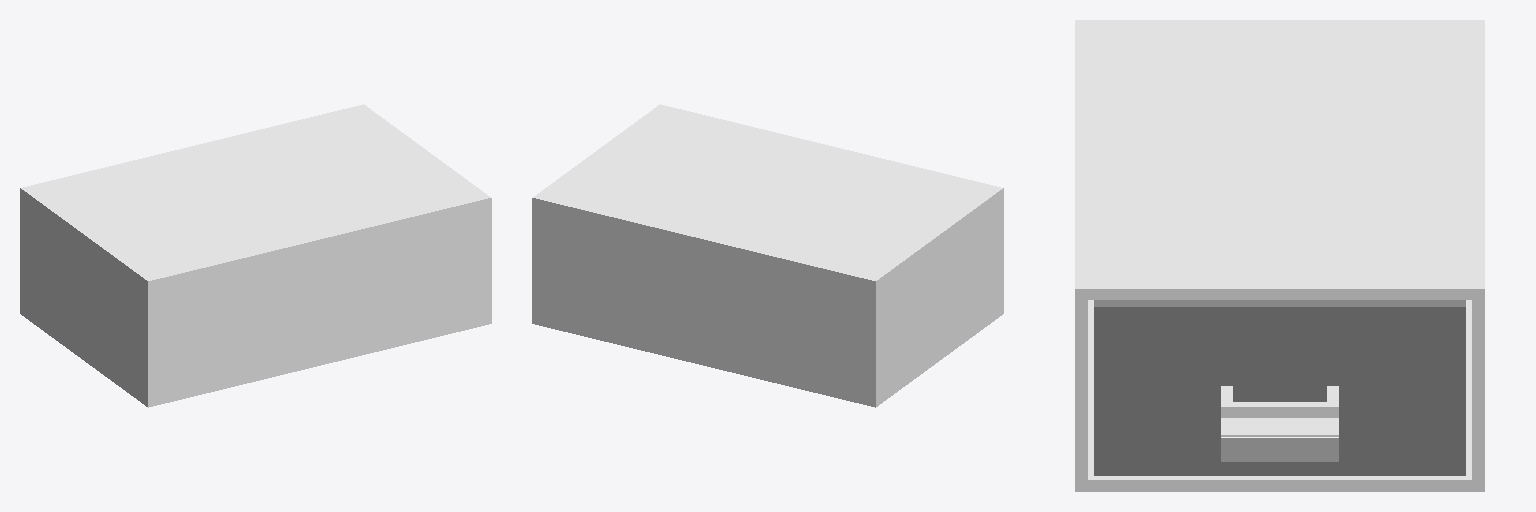
robot.urdf — drawer:
<?xml version="1.0" ?>
<!-- =================================================================================== -->
<!-- |    This document was autogenerated by xacro from drawer_one_sided_handle.xacro  | -->
<!-- |    EDITING THIS FILE BY HAND IS NOT RECOMMENDED                                 | -->
<!-- =================================================================================== -->
<robot name="drawer" xmlns:xacro="http://ros.org/wiki/xacro">
  <material name="omni/Blue">
    <color rgba="0 0 0.8 1"/>
  </material>
  <material name="omni/Red">
    <color rgba="1 0 0 1"/>
  </material>
  <material name="omni/White">
    <color rgba="1 1 1 1"/>
  </material>
  <material name="omni/Green">
    <color rgba="0 1 0 1"/>
  </material>
  <material name="omni/Yellow">
    <color rgba="1 1 0 1"/>
  </material>
  <material name="omni/LightGrey">
    <color rgba="0.6 0.6 0.6 1"/>
  </material>
  <material name="omni/DarkGrey">
    <color rgba="0.4 0.4 0.4 1"/>
  </material>
  <link name="base_link">
    </link>
  <link name="drawer">
    <visual>
      <origin rpy="0 0 0" xyz="0 0 0"/>
      <geometry>
        <box size="1.0 0.6 0.3"/>
      </geometry>
      <material name="omni/LightGrey"/>
    </visual>
    <collision>
      <origin rpy="0 0 0" xyz="0 0 0"/>
      <geometry>
        <box size="1.0 0.6 0.3"/>
      </geometry>
      <contact_coefficients mu="0.0"/>
    </collision>
    <inertial>
      <!-- CENTER OF MASS -->
      <origin rpy="0 0 0" xyz="0 0 0"/>
      <mass value="0.1"/>
      <!-- box inertia: 1/12*m(y^2+z^2), ... -->
      <inertia ixx="0.0225" ixy="0" ixz="0" iyy="0.0545" iyz="0" izz="0.068"/>
    </inertial>
  </link>
  <joint name="base_drawer_joint" type="prismatic">
    <origin rpy="0 0 0" xyz="0 0 0"/>
    <parent link="base_link"/>
    <child link="drawer"/>
    <dynamics damping="1.0" friction="1.0"/>
    <limit effort="0.1" lower="0.0" upper="0.5" velocity="10.0"/>
    <axis xyz="1 0 0"/>
  </joint>
  <link name="left_wall">
    <visual>
      <origin rpy="0 0 0" xyz="0 0 0"/>
      <geometry>
        <box size="1.01 0.02 0.32"/>
      </geometry>
      <material name="omni/White"/>
    </visual>
    <collision>
      <origin rpy="0 0 0" xyz="0 0 0.0"/>
      <geometry>
        <box size="1.01 0.02 0.32"/>
      </geometry>
    </collision>
    <inertial>
      <!-- CENTER OF MASS -->
      <origin rpy="0 0 0" xyz="0 0 0"/>
      <mass value="0.05"/>
      <!-- box inertia: 1/12*m(y^2+z^2), ... -->
      <inertia ixx="0.00257" ixy="0" ixz="0" iyy="0.0280625" iyz="0" izz="0.0255125"/>
    </inertial>
  </link>
  <joint name="b_2_lw" type="fixed">
    <origin rpy="0 0 0" xyz="-0.01 -0.32 0"/>
    <parent link="base_link"/>
    <child link="left_wall"/>
  </joint>
  <link name="right_wall">
    <visual>
      <origin rpy="0 0 0" xyz="0 0 0"/>
      <geometry>
        <box size="1.01 0.02 0.32"/>
      </geometry>
      <material name="omni/White"/>
    </visual>
    <collision>
      <origin rpy="0 0 0" xyz="0 0 0.0"/>
      <geometry>
        <box size="1.01 0.02 0.32"/>
      </geometry>
    </collision>
    <inertial>
      <!-- CENTER OF MASS -->
      <origin rpy="0 0 0" xyz="0 0 0"/>
      <mass value="0.05"/>
      <!-- box inertia: 1/12*m(y^2+z^2), ... -->
      <inertia ixx="0.00257" ixy="0" ixz="0" iyy="0.0280625" iyz="0" izz="0.0255125"/>
    </inertial>
  </link>
  <joint name="b_2_rw" type="fixed">
    <origin rpy="0 0 0" xyz="-0.01 0.32 0"/>
    <parent link="base_link"/>
    <child link="right_wall"/>
  </joint>
  <link name="bottom_wall">
    <visual>
      <origin rpy="0 0 0" xyz="0 0 0"/>
      <geometry>
        <box size="1.01 0.66 0.02"/>
      </geometry>
      <material name="omni/White"/>
    </visual>
    <collision>
      <origin rpy="0 0 0" xyz="0 0 0.0"/>
      <geometry>
        <box size="1.01 0.66 0.02"/>
      </geometry>
    </collision>
    <inertial>
      <!-- CENTER OF MASS -->
      <origin rpy="0 0 0" xyz="0 0 0"/>
      <mass value="0.05"/>
      <!-- box inertia: 1/12*m(y^2+z^2), ... -->
      <inertia ixx="0.0109" ixy="0" ixz="0" iyy="0.0255125" iyz="0" izz="0.0363925"/>
    </inertial>
  </link>
  <joint name="b_2_bw" type="fixed">
    <origin rpy="0 0 0" xyz="-0.01 0 -0.17"/>
    <parent link="base_link"/>
    <child link="bottom_wall"/>
  </joint>
  <link name="top_wall">
    <visual>
      <origin rpy="0 0 0" xyz="0 0 0"/>
      <geometry>
        <box size="1.01 0.66 0.02"/>
      </geometry>
      <material name="omni/White"/>
    </visual>
    <collision>
      <origin rpy="0 0 0" xyz="0 0 0.0"/>
      <geometry>
        <box size="1.01 0.66 0.02"/>
      </geometry>
    </collision>
    <inertial>
      <!-- CENTER OF MASS -->
      <origin rpy="0 0 0" xyz="0 0 0"/>
      <mass value="0.05"/>
      <!-- box inertia: 1/12*m(y^2+z^2), ... -->
      <inertia ixx="0.0109" ixy="0" ixz="0" iyy="0.0255125" iyz="0" izz="0.0363925"/>
    </inertial>
  </link>
  <joint name="b_2_tw" type="fixed">
    <origin rpy="0 0 0" xyz="-0.01 0 0.17"/>
    <parent link="base_link"/>
    <child link="top_wall"/>
  </joint>
  <link name="back_wall">
    <visual>
      <origin rpy="0 0 0" xyz="0 0 0"/>
      <geometry>
        <box size="0.02 0.66 0.36"/>
      </geometry>
      <material name="omni/White"/>
    </visual>
    <collision>
      <origin rpy="0 0 0" xyz="0 0 0.0"/>
      <geometry>
        <box size="0.02 0.66 0.36"/>
      </geometry>
    </collision>
    <inertial>
      <!-- CENTER OF MASS -->
      <origin rpy="0 0 0" xyz="0 0 0"/>
      <mass value="0.05"/>
      <!-- box inertia: 1/12*m(y^2+z^2), ... -->
      <inertia ixx="0.01413" ixy="0" ixz="0" iyy="0.00325" iyz="0" izz="0.02178"/>
    </inertial>
  </link>
  <joint name="b_2_backw" type="fixed">
    <origin rpy="0 0 0" xyz="-0.52 0 0"/>
    <parent link="base_link"/>
    <child link="back_wall"/>
  </joint>
  <link name="handle_left">
    <visual>
      <origin rpy="0 0 0" xyz="0 0 0"/>
      <geometry>
        <box size="0.06 0.02 0.02"/>
      </geometry>
      <material name="omni/White"/>
    </visual>
    <collision>
      <origin rpy="0 0 0" xyz="0 0 0.0"/>
      <geometry>
        <box size="0.06 0.02 0.02"/>
      </geometry>
    </collision>
    <inertial>
      <!-- CENTER OF MASS -->
      <origin rpy="0 0 0" xyz="0 0 0"/>
      <mass value="0.05"/>
      <!-- box inertia: 1/12*m(y^2+z^2), ... -->
      <inertia ixx="2e-05" ixy="0" ixz="0" iyy="0.0001" iyz="0" izz="0.0001"/>
    </inertial>
  </link>
  <joint name="d_2_hl" type="fixed">
    <origin rpy="0 0 0" xyz="0.53 -0.085 0"/>
    <parent link="drawer"/>
    <child link="handle_left"/>
  </joint>
  <link name="handle_right">
    <visual>
      <origin rpy="0 0 0" xyz="0 0 0"/>
      <geometry>
        <box size="0.06 0.02 0.02"/>
      </geometry>
      <material name="omni/White"/>
    </visual>
    <collision>
      <origin rpy="0 0 0" xyz="0 0 0.0"/>
      <geometry>
        <box size="0.06 0.02 0.02"/>
      </geometry>
    </collision>
    <inertial>
      <!-- CENTER OF MASS -->
      <origin rpy="0 0 0" xyz="0 0 0"/>
      <mass value="0.05"/>
      <!-- box inertia: 1/12*m(y^2+z^2), ... -->
      <inertia ixx="2e-05" ixy="0" ixz="0" iyy="0.0001" iyz="0" izz="0.0001"/>
    </inertial>
  </link>
  <joint name="d_2_hr" type="fixed">
    <origin rpy="0 0 0" xyz="0.53 0.085 0"/>
    <parent link="drawer"/>
    <child link="handle_right"/>
  </joint>
  <link name="handle_grip">
    <visual>
      <origin rpy="0 0 0" xyz="0 0 0"/>
      <geometry>
        <box size="0.02 0.19 0.02"/>
      </geometry>
      <material name="omni/White"/>
    </visual>
    <collision>
      <origin rpy="0 0 0" xyz="0 0 0.0"/>
      <geometry>
        <box size="0.02 0.19 0.02"/>
      </geometry>
    </collision>
    <inertial>
      <!-- CENTER OF MASS -->
      <origin rpy="0 0 0" xyz="0 0 0"/>
      <mass value="0.05"/>
      <!-- box inertia: 1/12*m(y^2+z^2), ... -->
      <inertia ixx="0.0009125" ixy="0" ixz="0" iyy="2e-05" iyz="0" izz="0.0009125"/>
    </inertial>
  </link>
  <joint name="d_2_hg" type="fixed">
    <origin rpy="0 0 0" xyz="0.57 0 0"/>
    <parent link="drawer"/>
    <child link="handle_grip"/>
  </joint>
  <link name="handle_top_cover">
    <visual>
      <origin rpy="0 0 0" xyz="0 0 0"/>
      <geometry>
        <!-- <box size="${handle_gap + handle_thickness} ${handle_span + 2 * handle_thickness} ${handle_thickness * 20}"/> -->
        <box size="0.08 0.19 0.006"/>
      </geometry>
      <material name="omni/White"/>
    </visual>
    <collision>
      <origin rpy="0 0 0" xyz="0 0 0.0"/>
      <geometry>
        <box size="0.08 0.19 0.006"/>
      </geometry>
      <contact_coefficients mu="0.0"/>
    </collision>
    <inertial>
      <origin rpy="0 0 0" xyz="0 0 0"/>
      <mass value="0.05"/>
      <inertia ixx="0.0009125" ixy="0" ixz="0" iyy="0.0001" iyz="0" izz="0.0009925"/>
    </inertial>
  </link>
  <joint name="d_2_htc" type="fixed">
    <origin rpy="0 0 0" xyz="0.54 0 -0.043"/>
    <parent link="drawer"/>
    <child link="handle_top_cover"/>
  </joint>
  <link name="handle_bottom_cover">
    <visual>
      <origin rpy="0 0 0" xyz="0 0 0"/>
      <geometry>
        <!-- <box size="${handle_gap + handle_thickness} ${handle_span + 2 * handle_thickness} ${handle_thickness * 20}"/> -->
        <box size="0.006 0.19 0.113136"/>
      </geometry>
      <material name="omni/White"/>
    </visual>
    <collision>
      <origin rpy="0 0 0" xyz="0 0 0.0"/>
      <geometry>
        <box size="0.006 0.19 0.113136"/>
      </geometry>
      <contact_coefficients mu="0.0"/>
    </collision>
    <inertial>
      <origin rpy="0 0 0" xyz="0 0 0"/>
      <mass value="0.05"/>
      <inertia ixx="0.0009125" ixy="0" ixz="0" iyy="0.0001" iyz="0" izz="0.0009925"/>
    </inertial>
  </link>
  <joint name="d_2_hbc" type="fixed">
    <origin rpy="0 0.78539816339 0" xyz="-0.001 0 -0.04"/>
    <parent link="handle_top_cover"/>
    <child link="handle_bottom_cover"/>
  </joint>
</robot>

--- Facts derived from the render (not from the file) ---
The picture shows the robot from 3 angles, left to right: view 1: azimuth 30°, elevation 25°; view 2: azimuth 150°, elevation 25°; view 3: azimuth 270°, elevation 25°; orthographic projection.
Robot: drawer — 12 links, 11 joints (1 prismatic, 10 fixed); root link base_link; default pose: every joint at zero.
Visible links, largest first — view 1: top_wall, left_wall, back_wall, bottom_wall; view 2: top_wall, right_wall, back_wall, bottom_wall; view 3: top_wall, drawer, bottom_wall, handle_bottom_cover, left_wall, right_wall, handle_top_cover, handle_grip, back_wall.
Boxes of the visible links, x1,y1,x2,y2 form: top_wall: (26,104,491,286); left_wall: (153,205,491,398); back_wall: (20,187,154,407); bottom_wall: (154,317,491,405); top_wall: (532,104,997,286); right_wall: (532,205,870,398); back_wall: (869,187,1003,407); bottom_wall: (532,317,869,405); top_wall: (1075,24,1484,299); drawer: (1094,300,1465,475); bottom_wall: (1075,300,1484,491); handle_bottom_cover: (1221,437,1338,461); left_wall: (1075,300,1087,479); right_wall: (1472,300,1484,479); handle_top_cover: (1221,418,1338,436); handle_grip: (1221,402,1338,417); back_wall: (1075,20,1484,23).
Size in the robot's own frame: 1.11 by 0.66 by 0.36 metres.
Geometry: primitives only (box / cylinder / sphere), no mesh files.